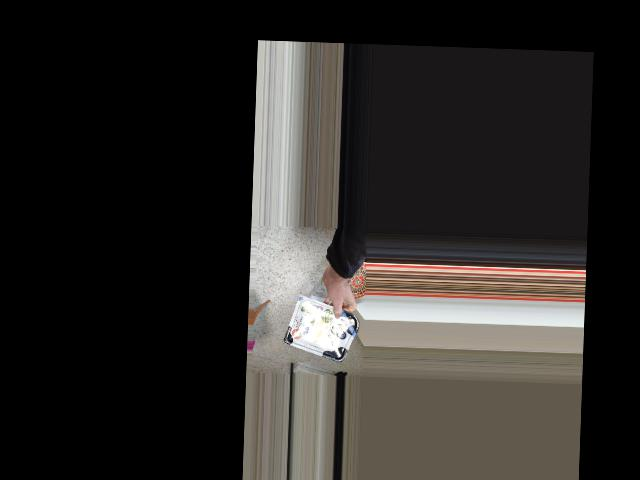cheese: (291, 307, 356, 355)
